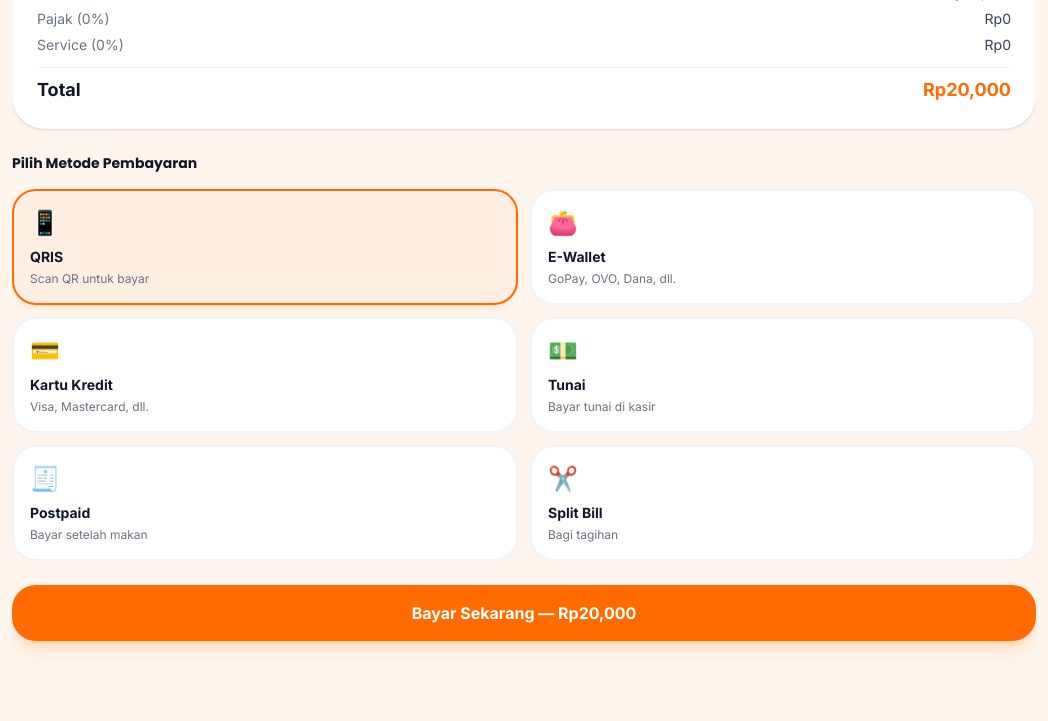
it: PaymentPage — 409 PRICE_CHANGED (DR-11) › an unrelated 409 keeps the existing error path
(page scrolled)
Click the button "Bayar Sekarang — Rp20,000" at [524, 613], box top-left (12, 585), bottom-right (1036, 641)
(page scrolled)
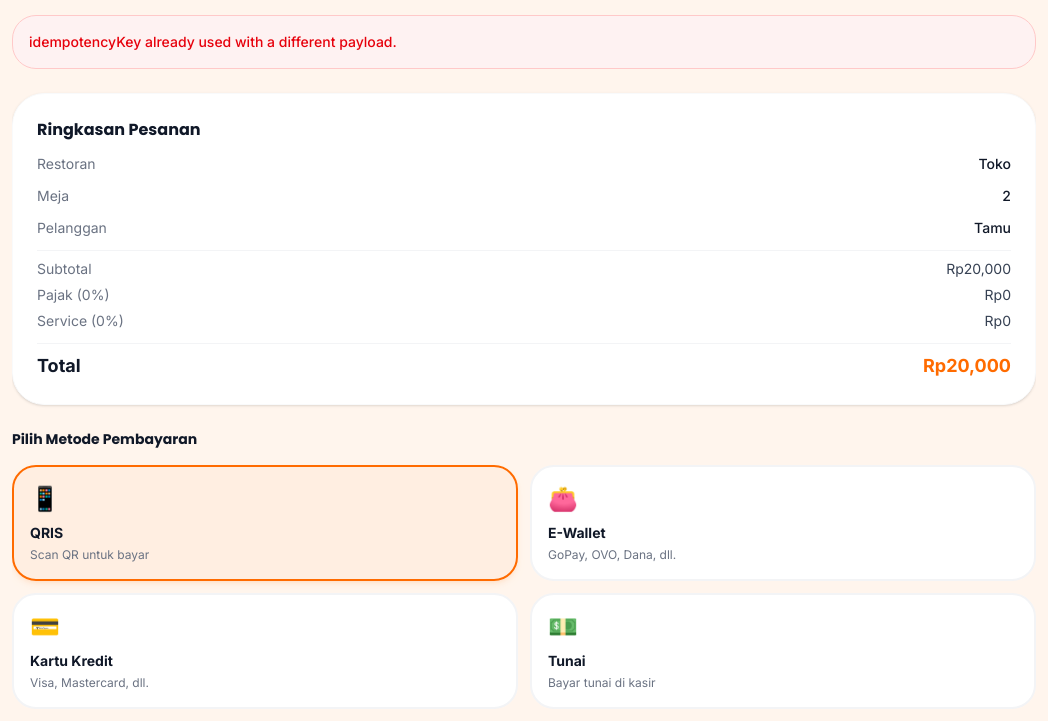
Now the text "idempotencyKey already used with a different payload." is shown, box top-left (29, 33), bottom-right (397, 50)
